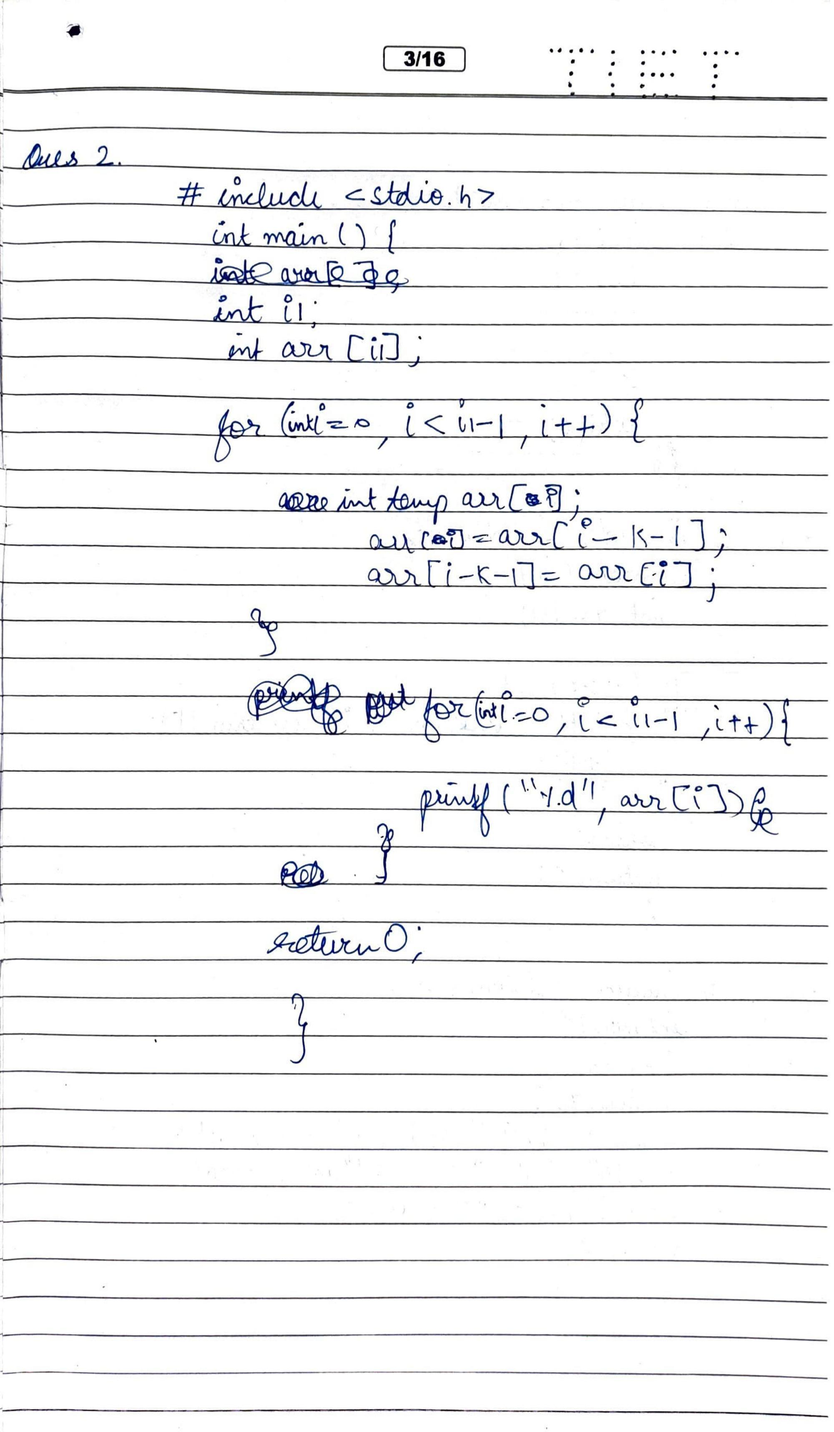cuttings: (240, 671, 420, 739), (202, 252, 412, 297), (747, 781, 780, 836), (277, 858, 330, 892), (274, 487, 332, 516), (521, 488, 542, 510), (431, 530, 448, 547)
